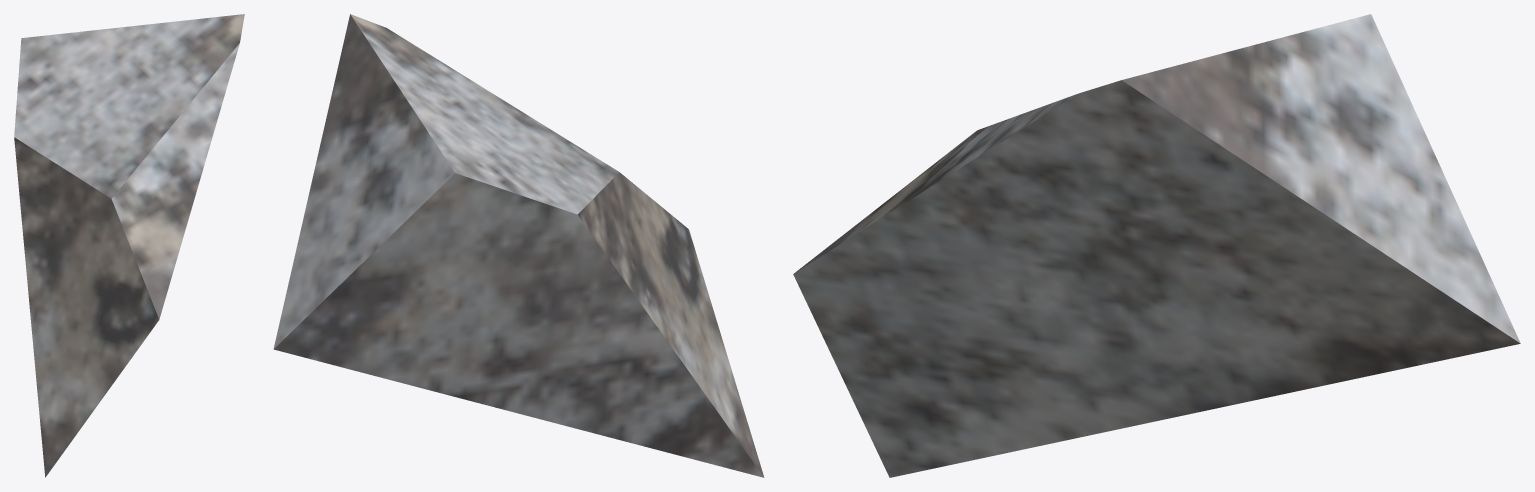
File: Asteroid_Large_001_02_002_03_029.fbx
3 renders of one model, left to right at view 1: azimuth 30°, elevation 25°; view 2: azimuth 150°, elevation 25°; view 3: azimuth 270°, elevation 25°, orthographic. The views are drawn at different scales.
Parts seen in each view (by area): view 1: Asteroid_Large_001_02_002_03_029; view 2: Asteroid_Large_001_02_002_03_029; view 3: Asteroid_Large_001_02_002_03_029.
Part boxes in pixels (x1=…): Asteroid_Large_001_02_002_03_029: x1=14, y1=14, x2=244, y2=477; Asteroid_Large_001_02_002_03_029: x1=273, y1=14, x2=764, y2=477; Asteroid_Large_001_02_002_03_029: x1=793, y1=14, x2=1520, y2=477.
Bounding box in the file's own units: 2.61 × 3.32 × 3.49.
